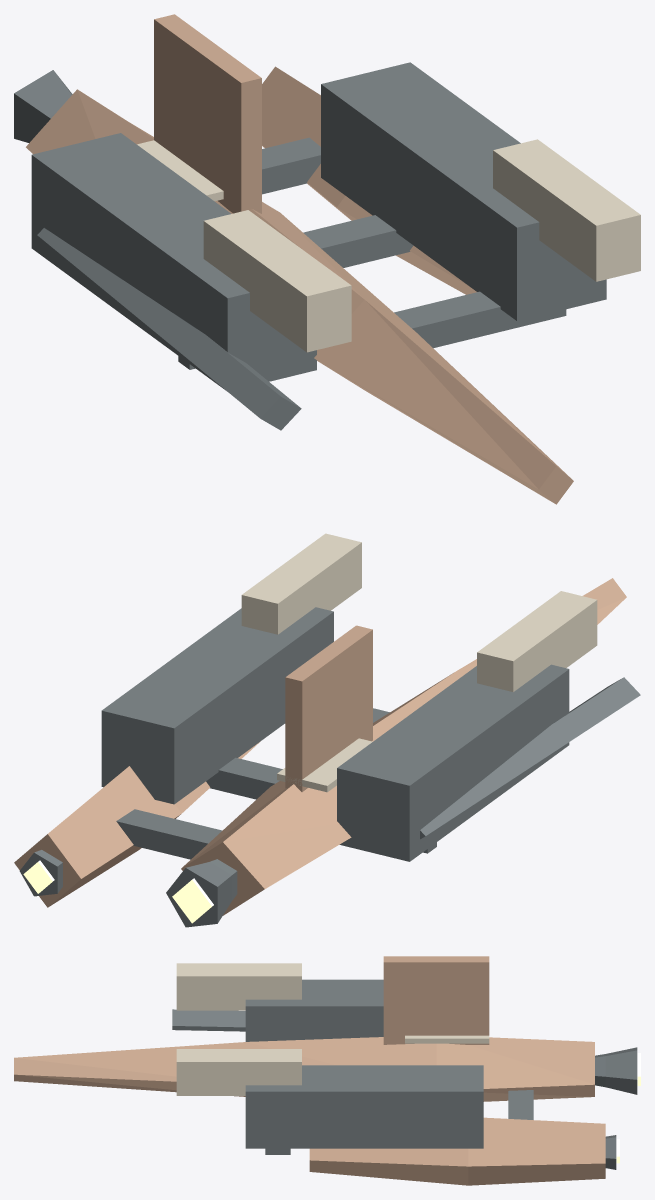
3 views of the same model, one above another, from view 1: azimuth 30°, elevation 25°; view 2: azimuth 150°, elevation 25°; view 3: azimuth 270°, elevation 25° (orthographic). The views are drawn at different scales.
Bounding box in the file's own units: 9.48 × 5.82 × 20.03.
